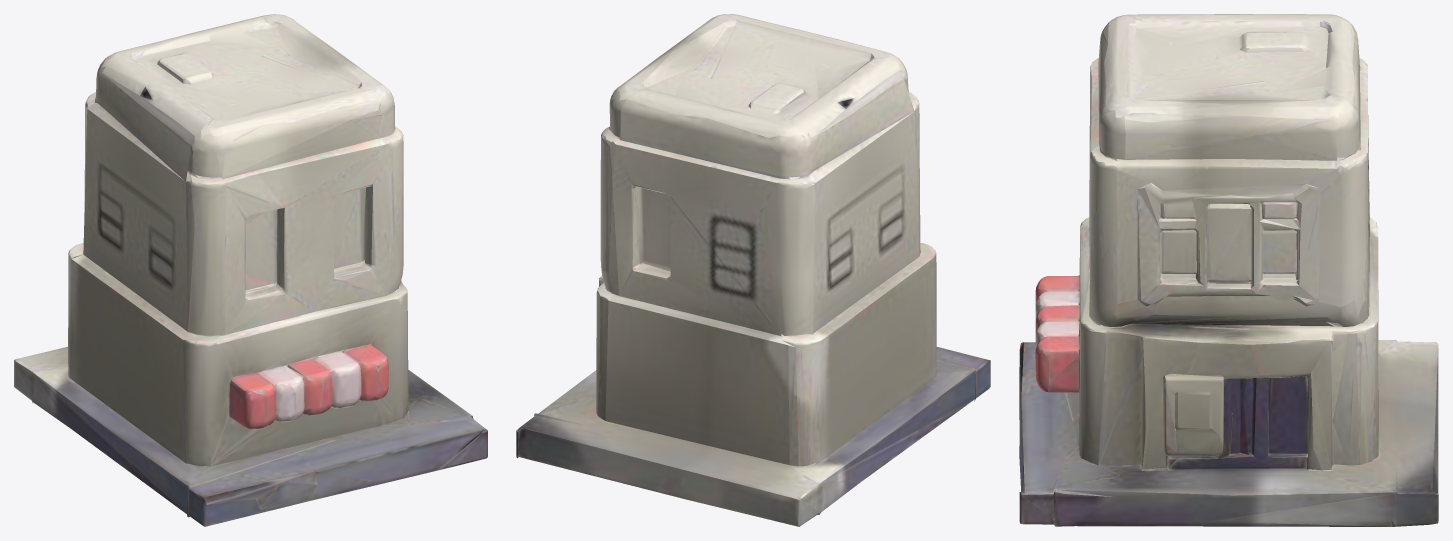
Rendered from bina-krmz.glb.
3 renders of one model, left to right at view 1: azimuth 30°, elevation 25°; view 2: azimuth 150°, elevation 25°; view 3: azimuth 270°, elevation 25°, orthographic. The views are drawn at different scales.
Bounding box in the file's own units: 1.6 × 1.9 × 1.85.
1 material, 1 textured.
